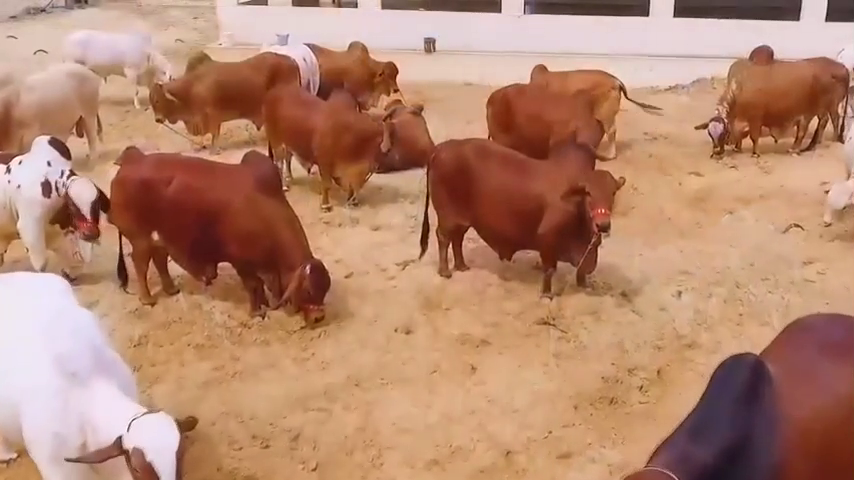bo: (99, 132, 344, 335), (3, 257, 209, 476), (605, 300, 854, 480), (406, 130, 627, 303), (269, 99, 421, 228), (701, 42, 845, 169), (1, 121, 106, 281), (150, 42, 302, 151), (58, 17, 184, 119), (474, 76, 617, 165), (524, 50, 633, 142), (4, 59, 105, 153), (345, 80, 449, 166), (304, 23, 404, 106), (261, 20, 329, 102), (820, 107, 854, 239)
